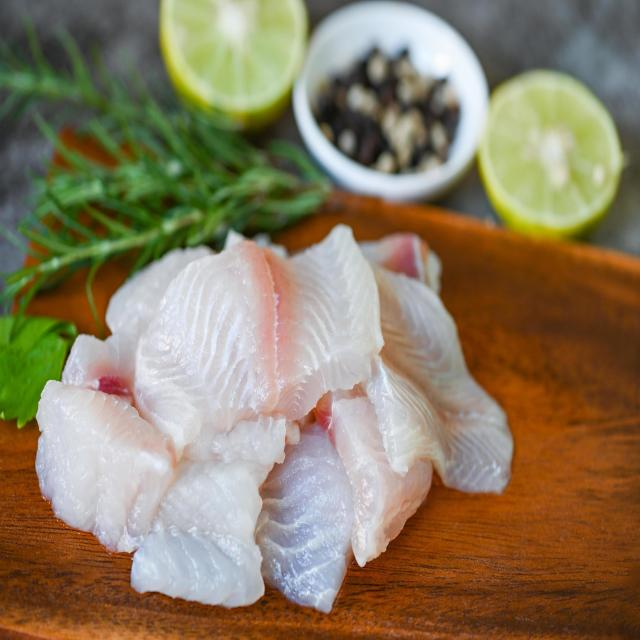Black pepper: (348, 111, 379, 160)
Catfish: (33, 225, 523, 608), (133, 211, 380, 452)
Coriander: (0, 8, 229, 198), (0, 147, 320, 261), (0, 315, 75, 426)
lemon: (479, 60, 628, 242), (157, 0, 310, 142)
